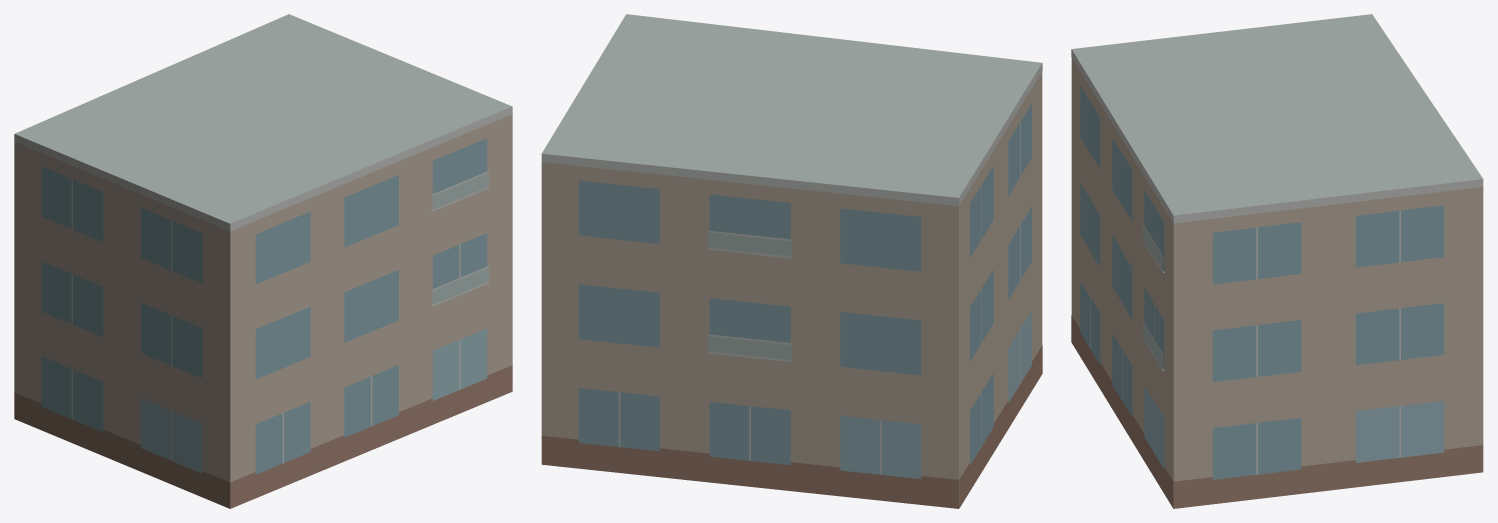
Rendered from survey-upis-32700474.glb.
3 views of the same model, side by side, from view 1: azimuth 30°, elevation 25°; view 2: azimuth 150°, elevation 25°; view 3: azimuth 270°, elevation 25° (orthographic). The views are drawn at different scales.
Visible parts, largest first — view 1: survey-upis-32700474.tmp; view 2: survey-upis-32700474.tmp; view 3: survey-upis-32700474.tmp.
Part boxes in pixels (left/top/right/bottom): survey-upis-32700474.tmp: left=14, top=14, right=512, bottom=508; survey-upis-32700474.tmp: left=541, top=14, right=1042, bottom=508; survey-upis-32700474.tmp: left=1071, top=14, right=1483, bottom=508.
Size of the model in its own units: 13.5 by 9.15 by 11.66.
